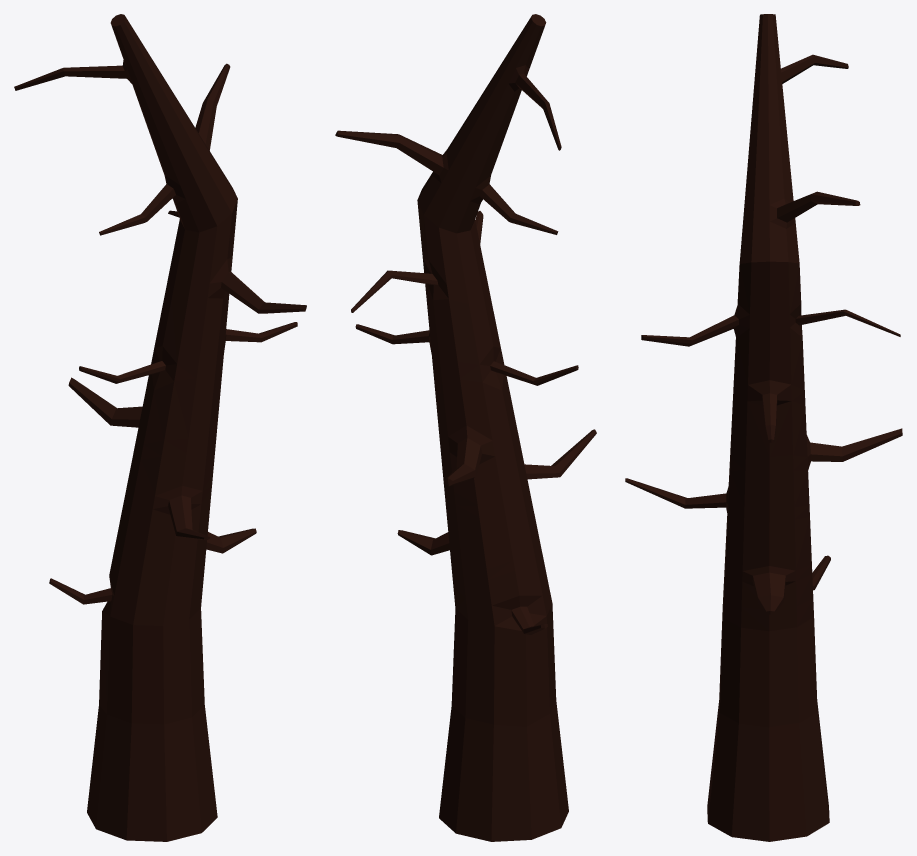
The model's file is dead2.obj.
The picture shows the model from 3 angles, left to right: view 1: azimuth 30°, elevation 25°; view 2: azimuth 150°, elevation 25°; view 3: azimuth 270°, elevation 25°; orthographic projection. The views are drawn at different scales.
Parts seen in each view (by area): view 1: dead2_Cylinder.004; view 2: dead2_Cylinder.004; view 3: dead2_Cylinder.004.
Boxes of the visible parts, <box> form: dead2_Cylinder.004: <box>14,14,306,841</box>; dead2_Cylinder.004: <box>335,14,596,841</box>; dead2_Cylinder.004: <box>625,14,902,841</box>.
Size of the model in its own units: 2.22 by 7.02 by 2.24.
